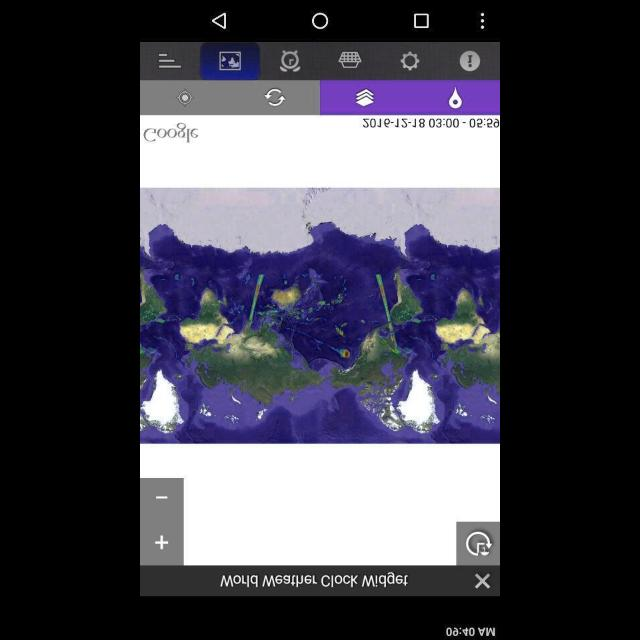icon: (280, 48, 300, 72), (158, 50, 182, 68), (336, 53, 362, 69), (221, 50, 241, 70), (460, 52, 480, 70), (402, 52, 421, 70), (474, 572, 492, 588), (312, 12, 328, 28), (212, 12, 226, 28), (414, 13, 428, 27), (480, 10, 484, 30)
map: (140, 80, 498, 566)
panel: (140, 1, 500, 41), (140, 42, 500, 78)
text: (221, 572, 409, 586)
uppertaskbar: (140, 622, 500, 640)
